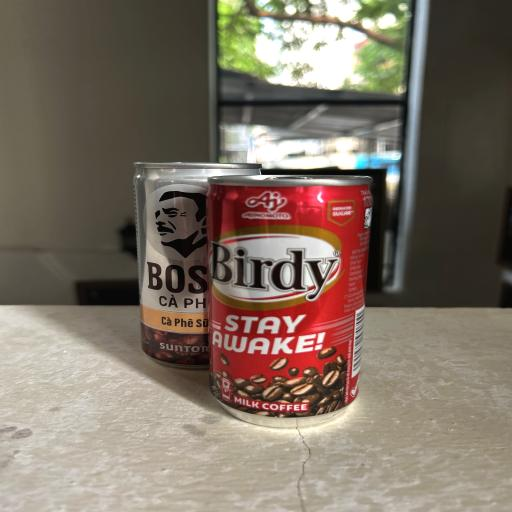birdy: (206, 171, 369, 426)
boss_coffee: (130, 158, 266, 370)
